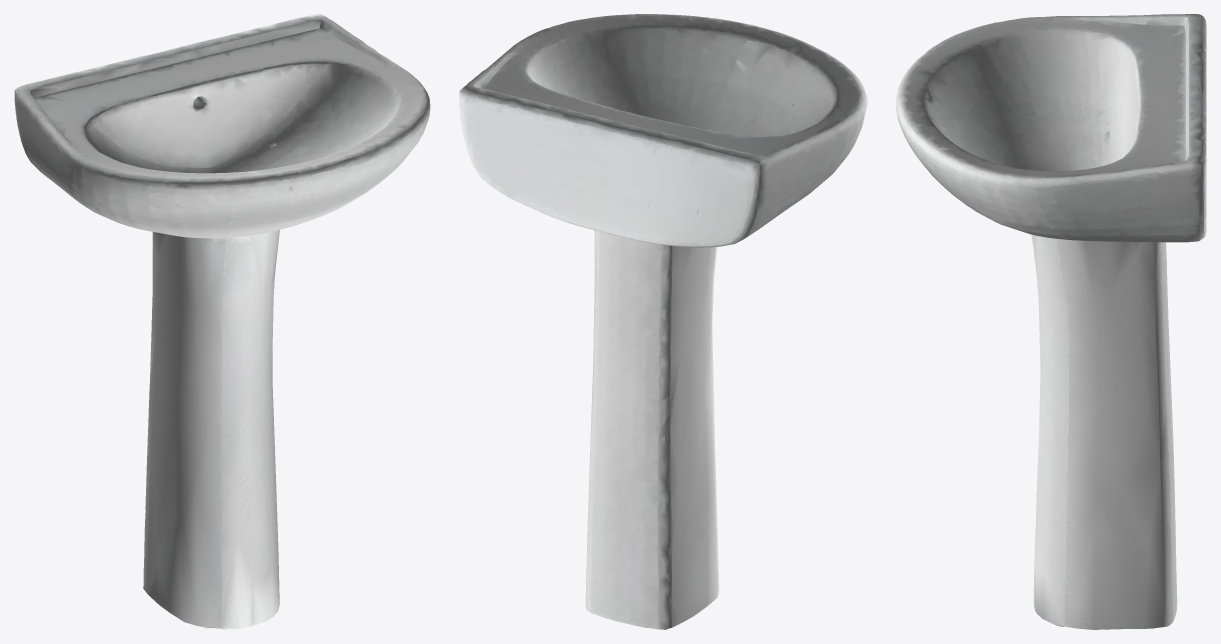
File: sink.glb
3 views of the same model, side by side, from view 1: azimuth 30°, elevation 25°; view 2: azimuth 150°, elevation 25°; view 3: azimuth 270°, elevation 25° (orthographic). The views are drawn at different scales.
Parts seen in each view (by area): view 1: geometry_0; view 2: geometry_0; view 3: geometry_0.
Part boxes in pixels (left/top/right/bottom): geometry_0: left=14, top=14, right=430, bottom=629; geometry_0: left=459, top=14, right=867, bottom=629; geometry_0: left=896, top=14, right=1206, bottom=629.
Size of the model in its own units: 0.6903 by 1 by 0.5432.
1 material, 1 textured.
